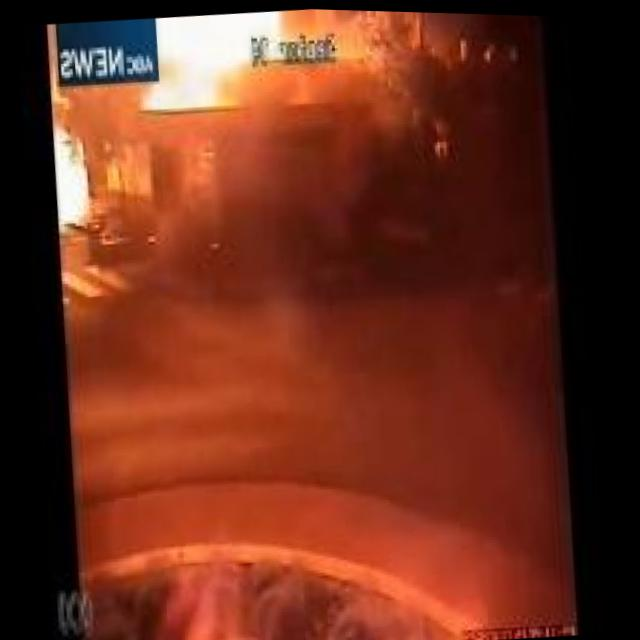fire: (127, 9, 283, 116), (46, 109, 101, 250)
